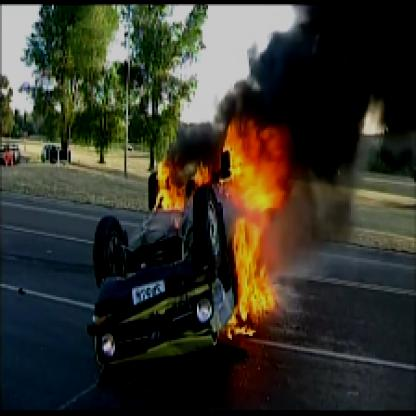Fire: (145, 83, 340, 340)
